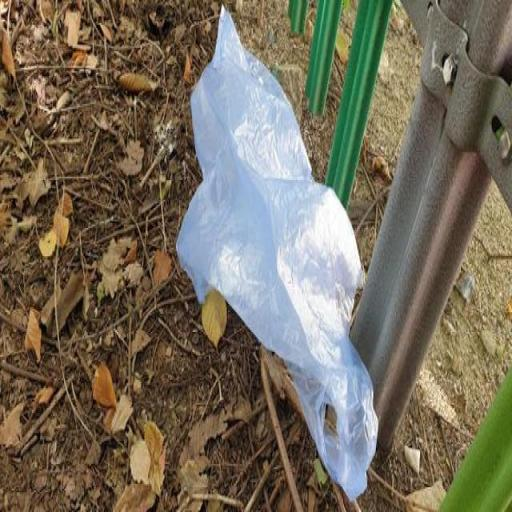plastic-bag: (175, 4, 379, 505)
